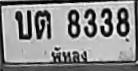3: (83, 8, 96, 37), (99, 7, 112, 36)
8: (116, 7, 128, 36), (67, 9, 79, 37)
A21: (34, 10, 50, 38)
A26: (14, 9, 31, 39)
PLG: (49, 45, 90, 66)
